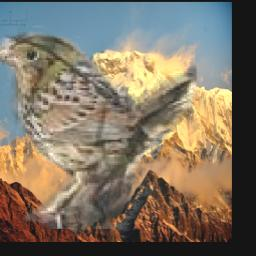Sparrow: (0, 26, 197, 230)
